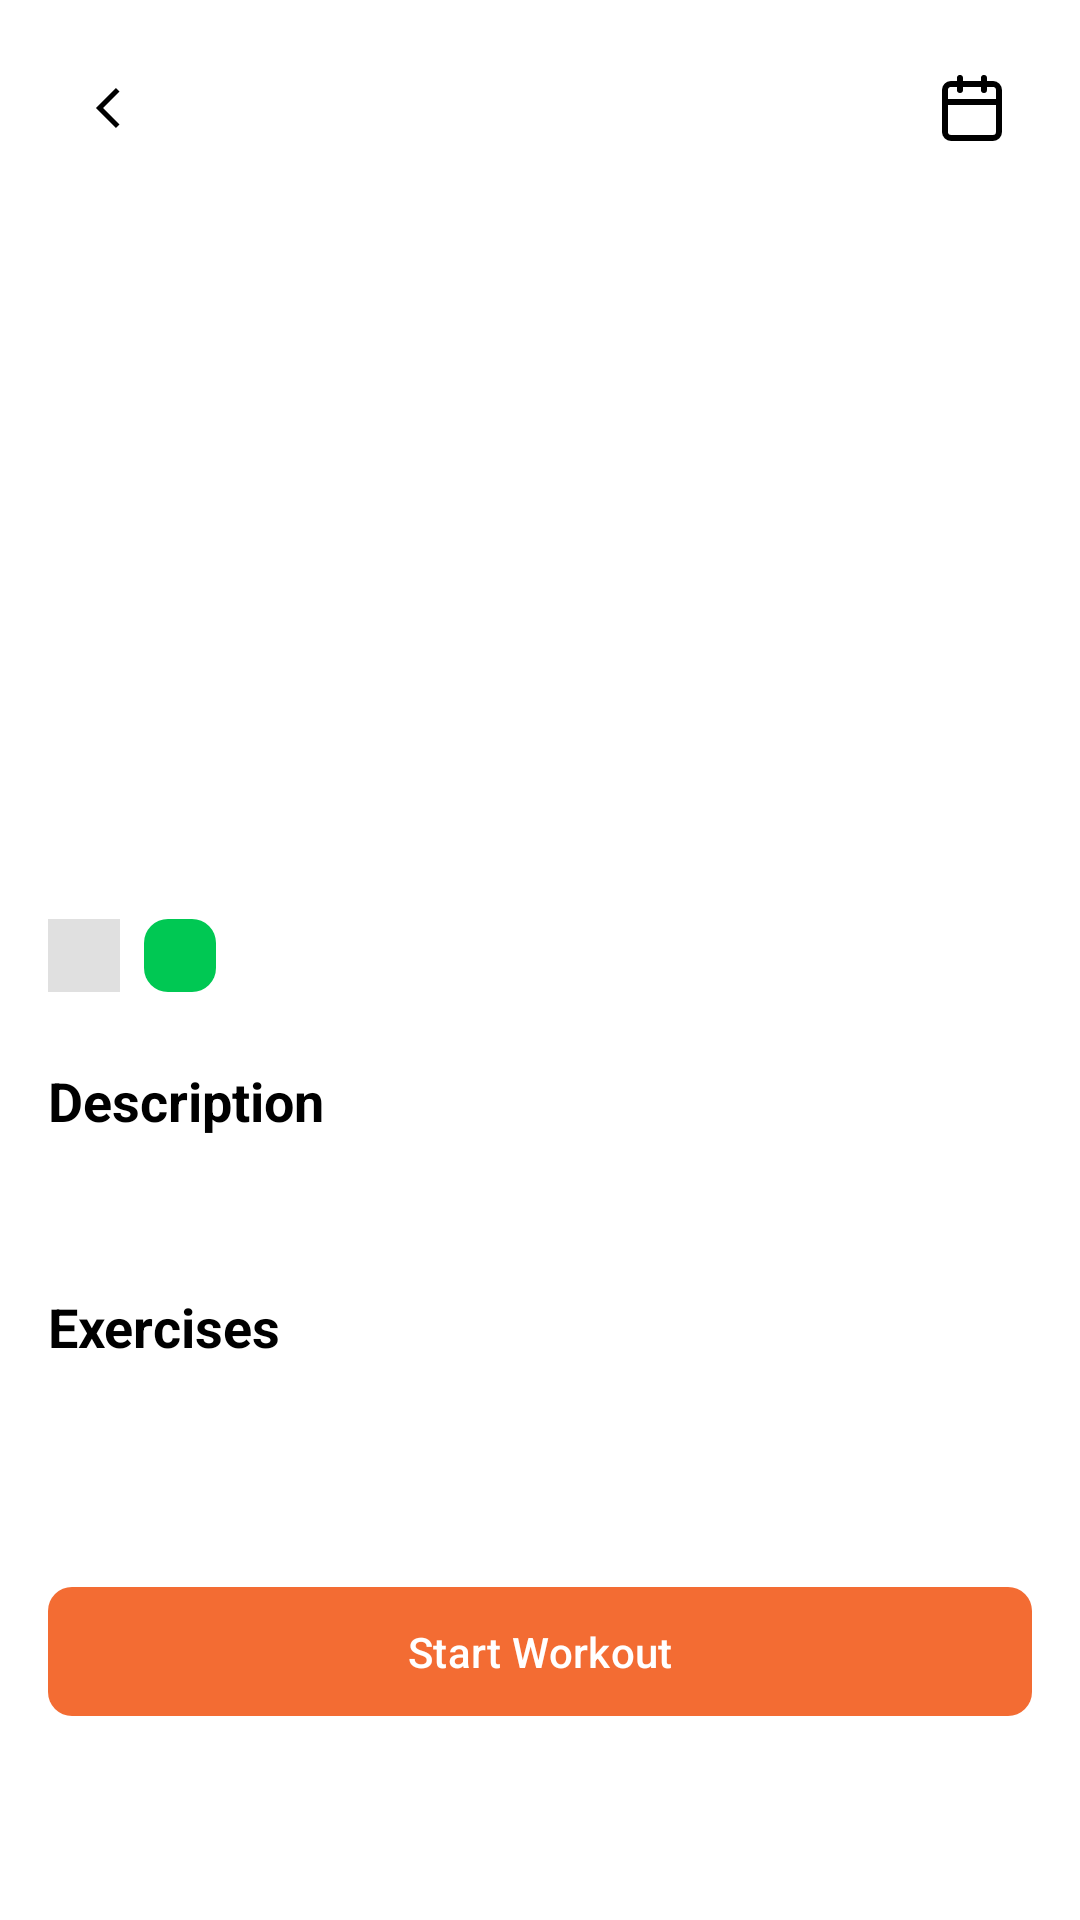

Where to tap for icons on this 1080*1920 app screen, as (x,y):
calendar: (972,108)
